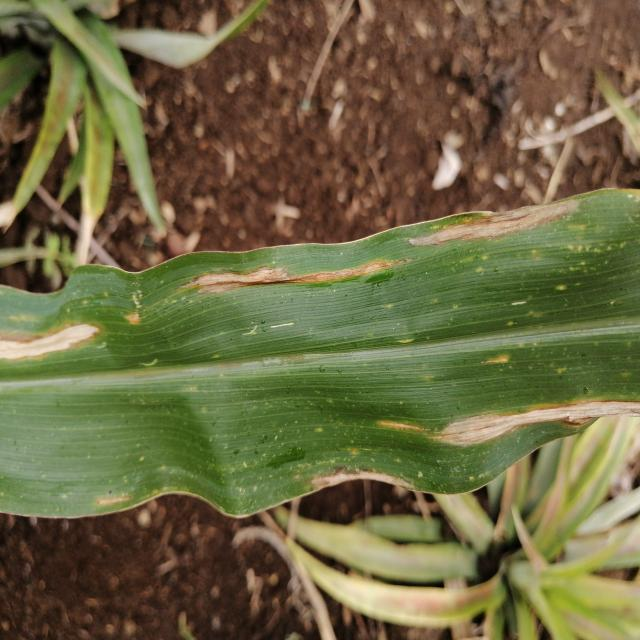Corn_Leaf_Blight: (6, 198, 640, 513)
